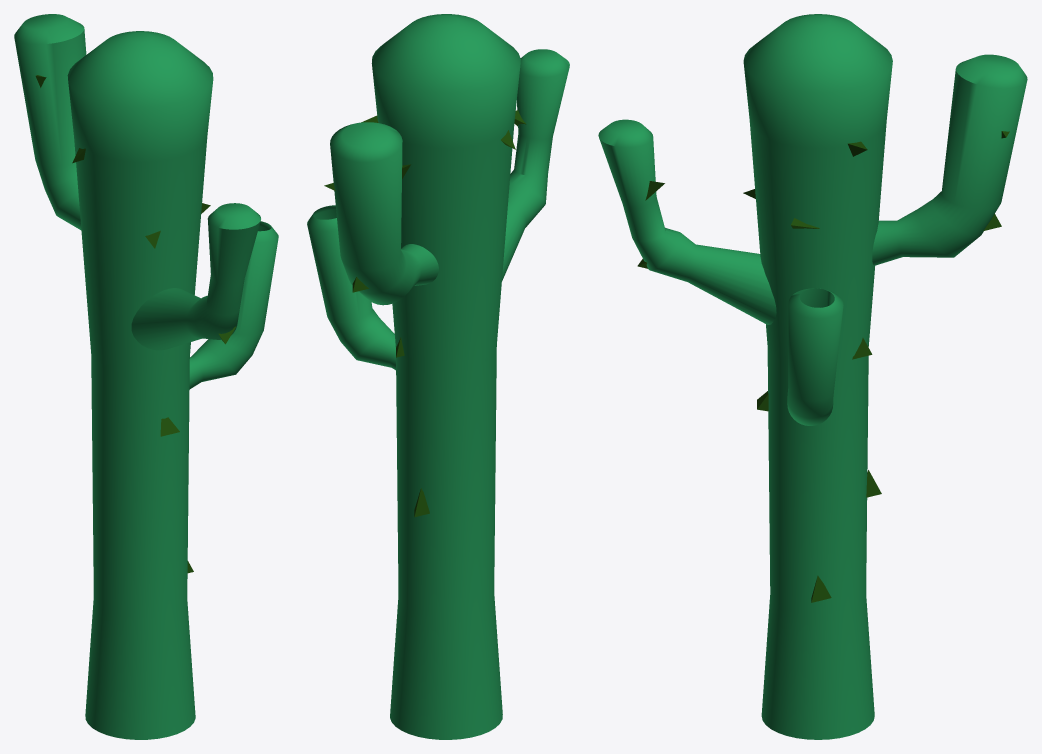
File: Cactus1.fbx
The picture shows the model from 3 angles, left to right: view 1: azimuth 30°, elevation 25°; view 2: azimuth 150°, elevation 25°; view 3: azimuth 270°, elevation 25°; orthographic projection. The views are drawn at different scales.
Parts seen in each view (by area): view 1: Cylinder.001; view 2: Cylinder.001; view 3: Cylinder.001.
Part boxes in pixels (box(x1,y1,x2,y2)): Cylinder.001: box(14, 14, 278, 739); Cylinder.001: box(307, 14, 569, 739); Cylinder.001: box(598, 14, 1027, 739).
Size of the model in its own units: 250 by 806 by 451.
